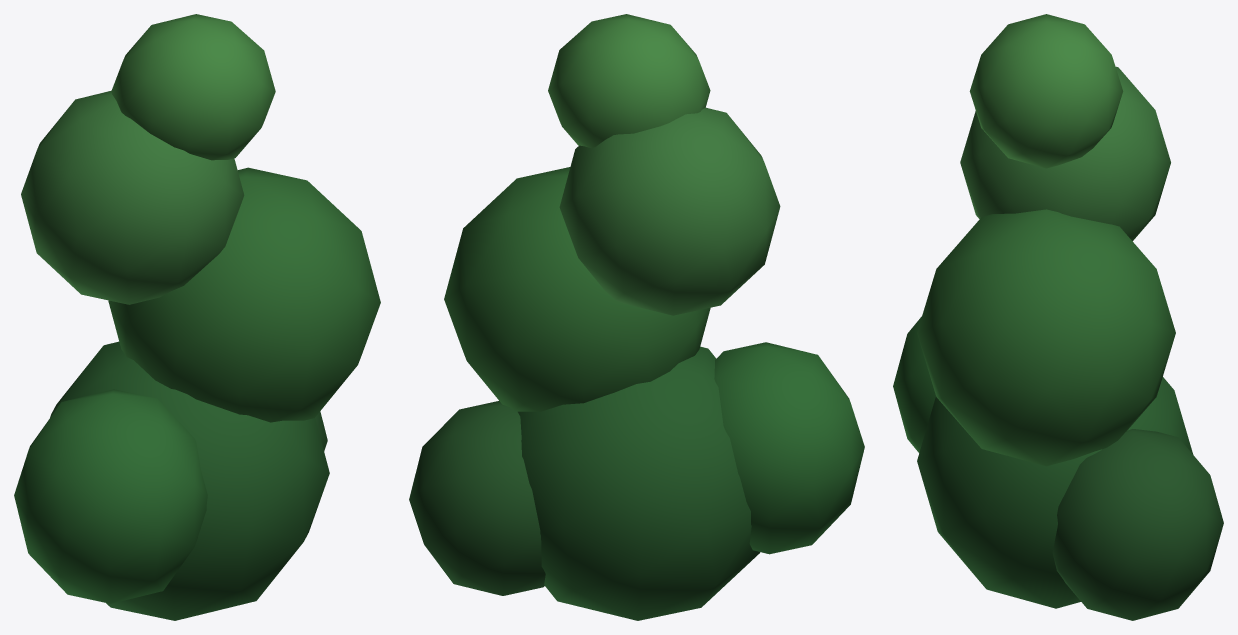
File: bush-tall.c0c57ed0.glb
The picture shows the model from 3 angles, left to right: view 1: azimuth 30°, elevation 25°; view 2: azimuth 150°, elevation 25°; view 3: azimuth 270°, elevation 25°; orthographic projection. The views are drawn at different scales.
Visible parts, largest first — view 1: body; view 2: body; view 3: body.
Part boxes in pixels (bbox=[...]): body: bbox=[14, 14, 380, 620]; body: bbox=[409, 14, 864, 620]; body: bbox=[893, 14, 1223, 620].
Size of the model in its own units: 0.86 by 1.33 by 0.69.
